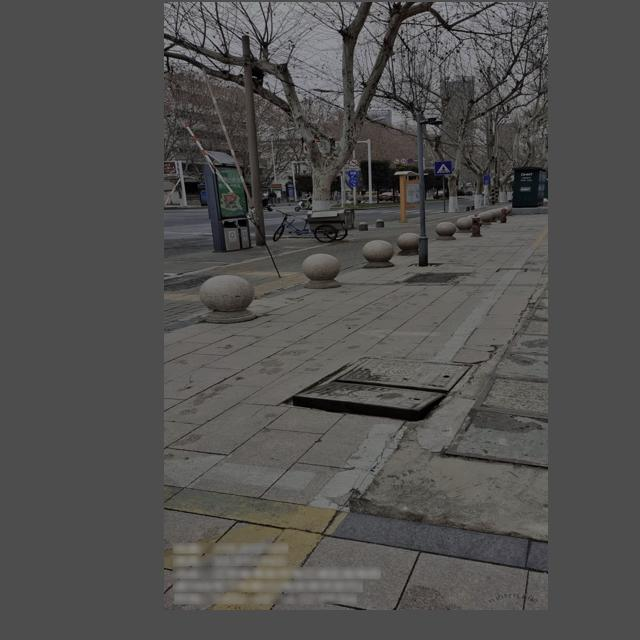uncovered: (281, 331, 452, 428)
